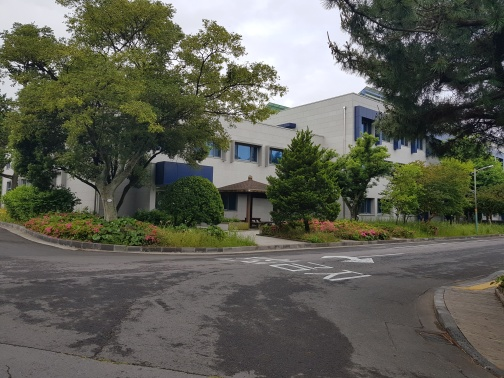College of Social Sciences: (110, 63, 433, 236)
